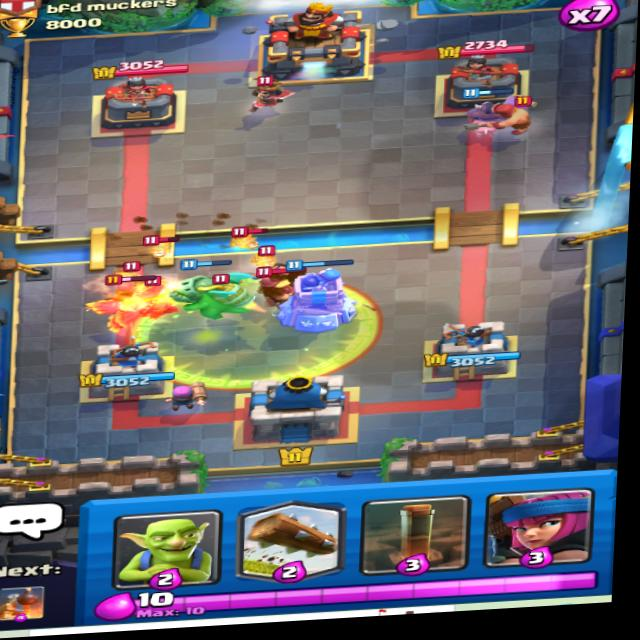fisherman: (245, 264, 320, 303)
goblin-curse: (120, 263, 392, 402)
little-prince: (243, 69, 300, 117)
lumberjack: (488, 94, 557, 142)
phoenix: (71, 280, 182, 336)
